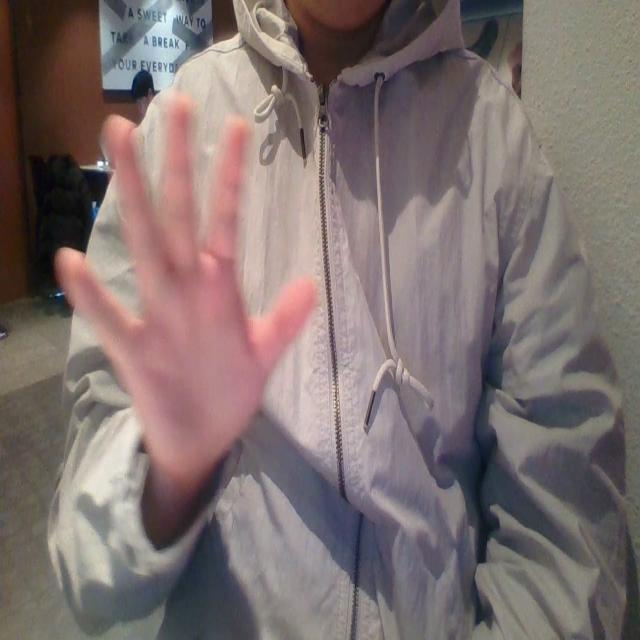hand: (61, 106, 318, 515)
